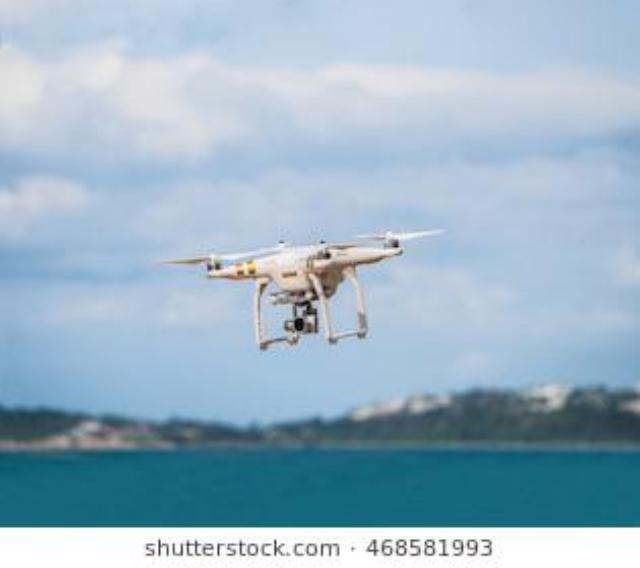drone: (140, 193, 446, 378)
